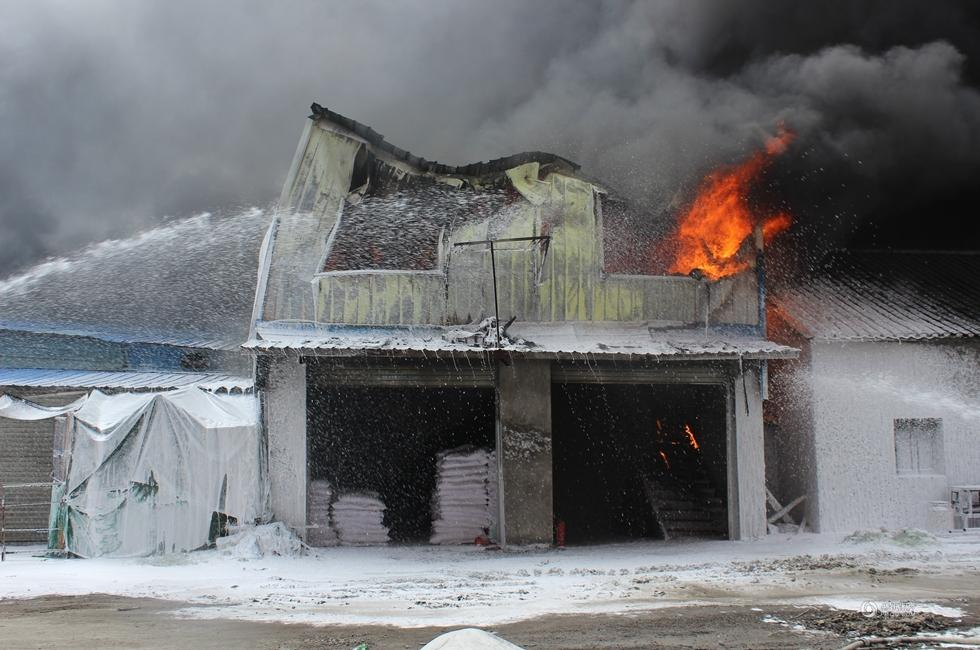fire: (675, 127, 814, 288)
